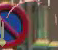No waiting: (0, 1, 27, 46)
